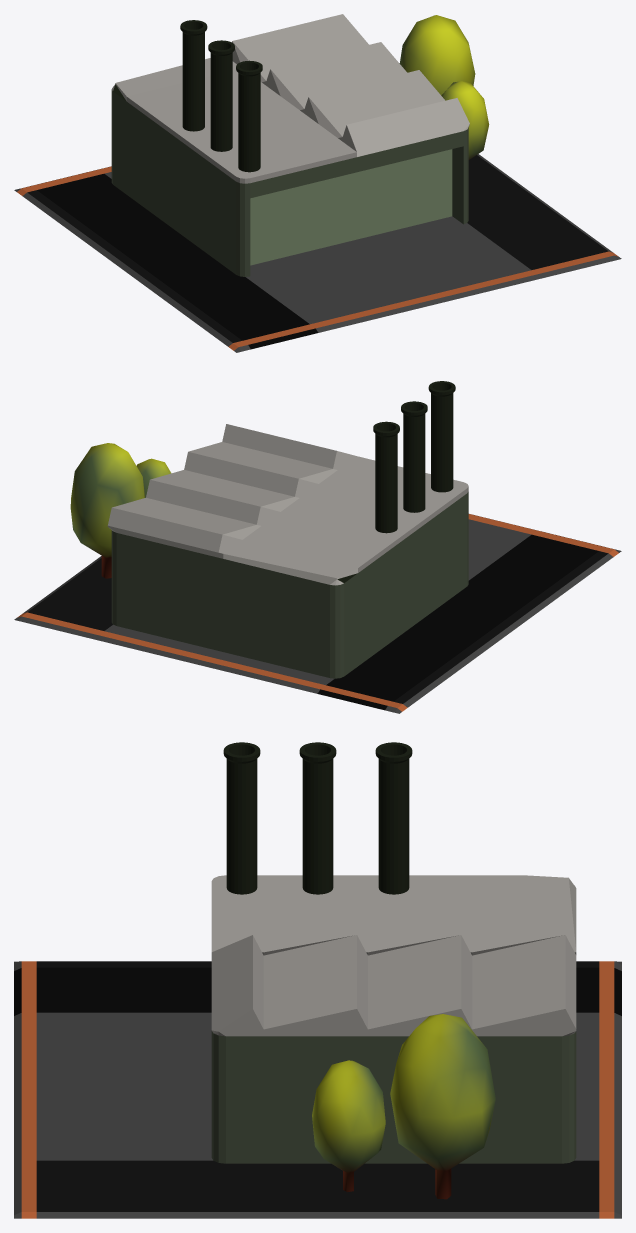
Rendered from SM_Building_Industry.fbx.
3 renders of one model, top to bottom at view 1: azimuth 30°, elevation 25°; view 2: azimuth 150°, elevation 25°; view 3: azimuth 270°, elevation 25°, orthographic. The views are drawn at different scales.
Visible parts, largest first — view 1: Cube, Base, TreeSmall.003, TreeSmall.002; view 2: Cube, Base, TreeSmall.003, TreeSmall.002; view 3: Cube, Base, TreeSmall.003, TreeSmall.002.
Part boxes in pixels (x1=…): Cube: x1=111, y1=14, x2=469, y2=276; Base: x1=14, y1=154, x2=621, y2=352; TreeSmall.003: x1=399, y1=15, x2=475, y2=95; TreeSmall.002: x1=441, y1=81, x2=489, y2=159; Cube: x1=107, y1=381, x2=468, y2=678; Base: x1=14, y1=514, x2=621, y2=713; TreeSmall.003: x1=70, y1=443, x2=144, y2=578; TreeSmall.002: x1=136, y1=458, x2=171, y2=497; Cube: x1=211, y1=742, x2=576, y2=1163; Base: x1=14, y1=961, x2=621, y2=1218; TreeSmall.003: x1=390, y1=1014, x2=495, y2=1199; TreeSmall.002: x1=312, y1=1060, x2=385, y2=1192.
Size of the model in its own units: 810 by 401 by 800.
